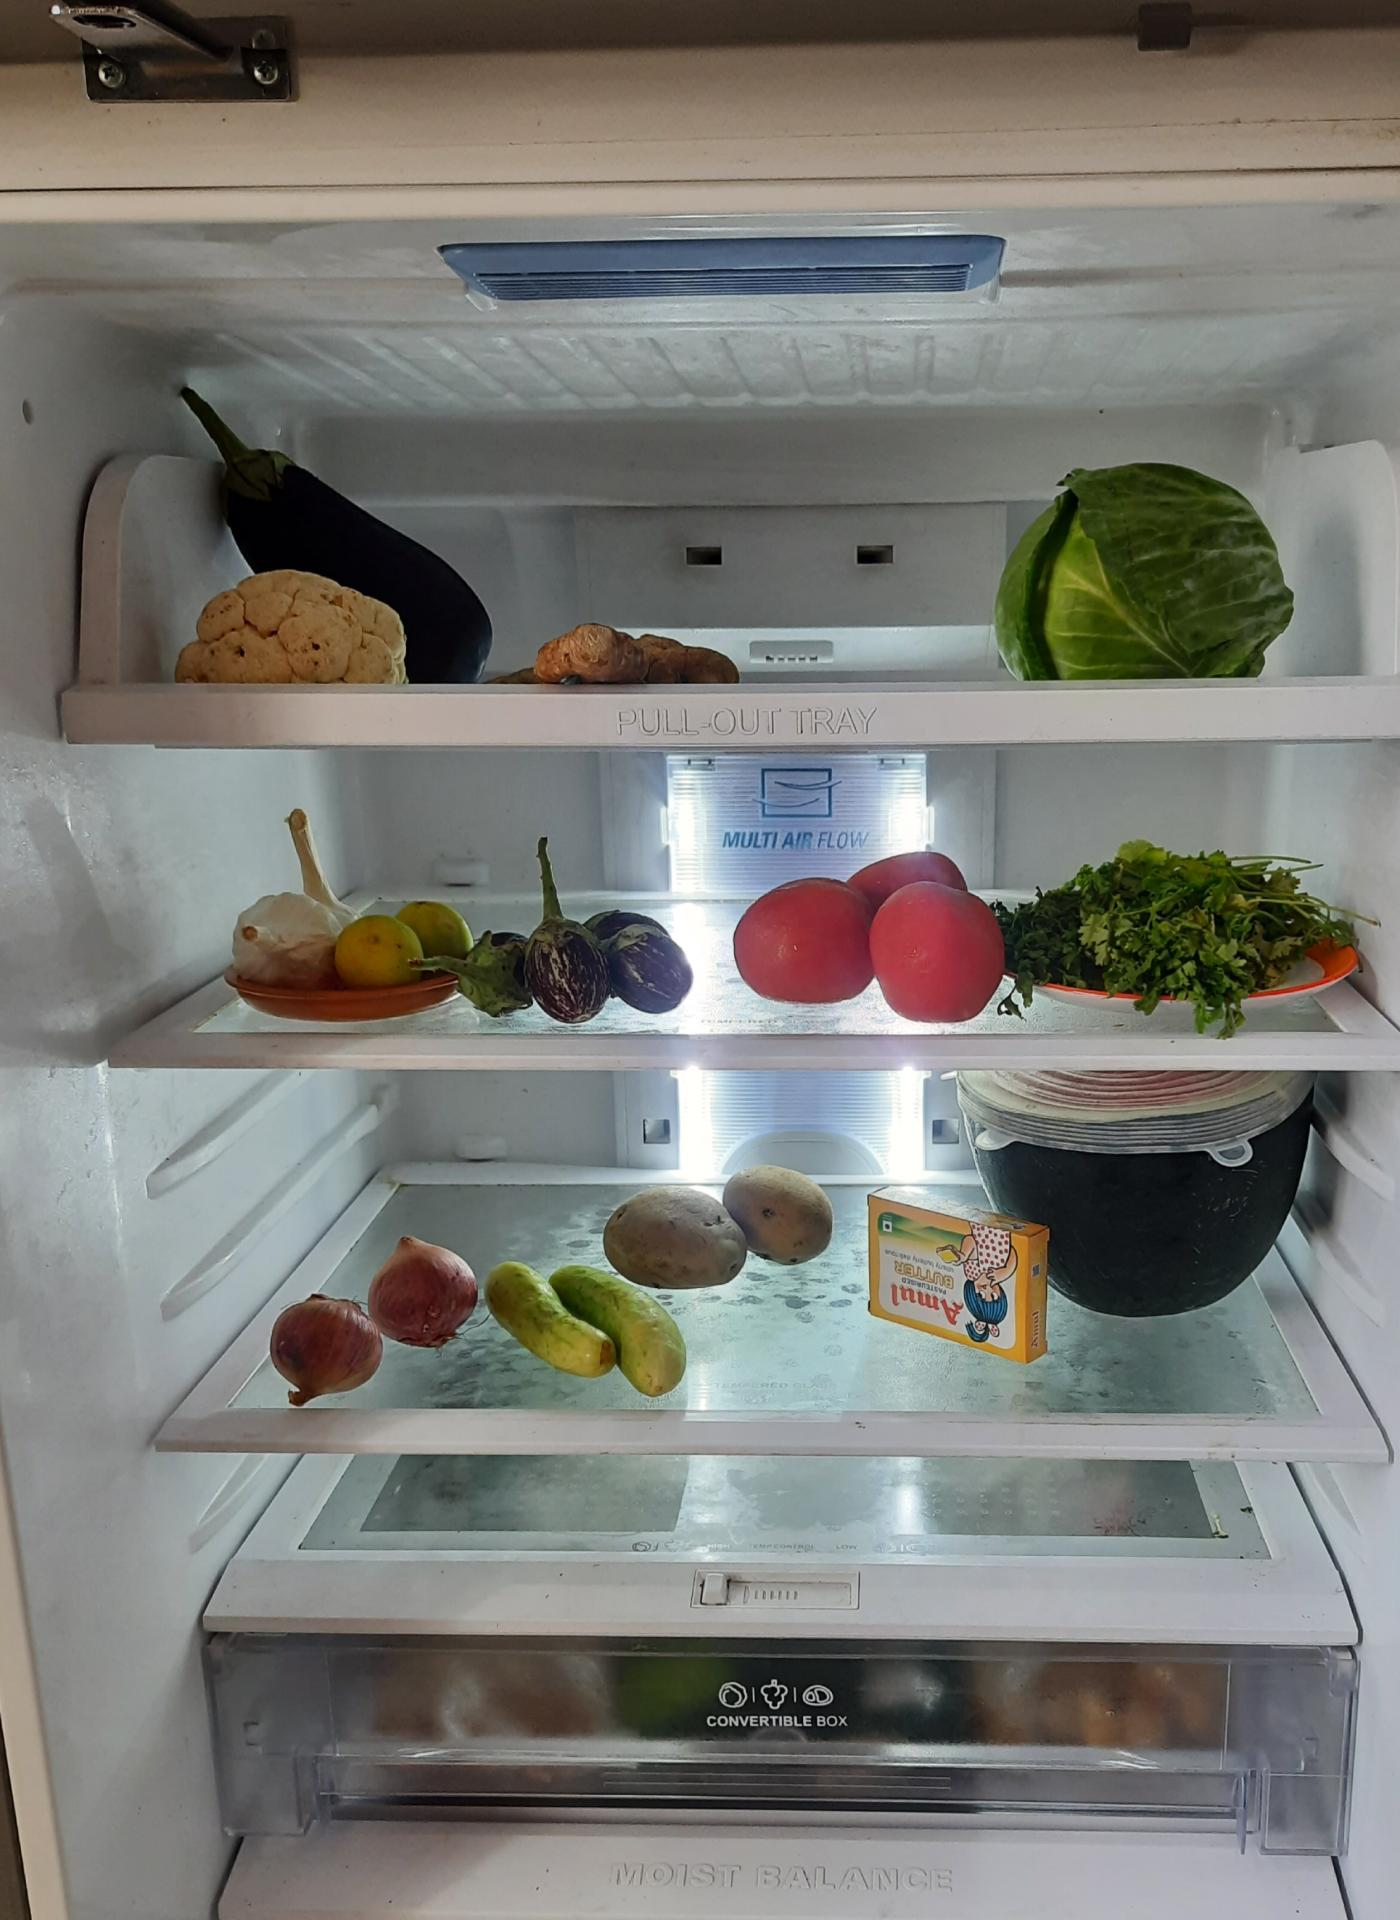brinjal: (240, 376, 507, 692), (446, 851, 699, 1023)
butter: (865, 1188, 1050, 1362)
cabbage: (991, 447, 1300, 674)
cauliflower: (173, 586, 412, 692)
coriander: (1012, 836, 1370, 1000)
cucumber: (480, 1255, 692, 1394)
garlic: (230, 799, 355, 972)
ginger: (526, 625, 769, 683)
lemon: (347, 890, 474, 1006)
onion: (277, 1233, 471, 1409)
potato: (596, 1163, 842, 1294)
tomato: (728, 844, 997, 1018)
watermelon: (951, 1063, 1318, 1312)
